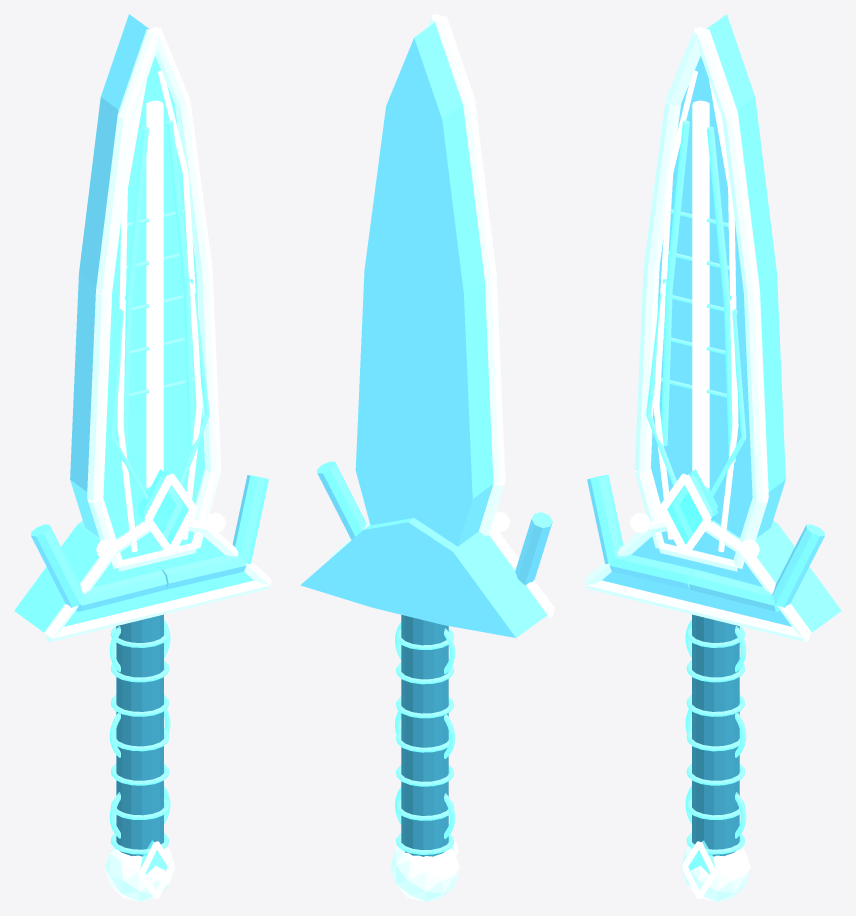
The model's file is bildmaster_dagger_hologram_v2.glb.
3 renders of one model, left to right at view 1: azimuth 30°, elevation 25°; view 2: azimuth 150°, elevation 25°; view 3: azimuth 330°, elevation 25°, orthographic.
Parts seen in each view (by area): view 1: dagger_metal, dagger_light, dagger_white, dagger_aqua, dagger_core, dagger_glass; view 2: dagger_metal, dagger_light, dagger_core, dagger_aqua; view 3: dagger_metal, dagger_light, dagger_white, dagger_aqua, dagger_core, dagger_glass.
Part boxes in pixels (box(x1,y1,x2,y2)): dagger_metal: box(14, 14, 268, 632); dagger_light: box(44, 27, 271, 901); dagger_white: box(96, 70, 225, 898); dagger_aqua: box(109, 120, 209, 854); dagger_core: box(116, 614, 163, 856); dagger_glass: box(137, 469, 188, 874); dagger_metal: box(300, 22, 552, 637); dagger_light: box(330, 14, 555, 901); dagger_core: box(401, 615, 448, 856); dagger_aqua: box(395, 622, 455, 854); dagger_metal: box(587, 14, 841, 632); dagger_light: box(584, 27, 811, 901); dagger_white: box(630, 70, 759, 898); dagger_aqua: box(646, 120, 746, 854); dagger_core: box(692, 614, 739, 856); dagger_glass: box(667, 469, 718, 874).
Bounding box in the file's own units: 0.1957 × 0.7 × 0.0725.
